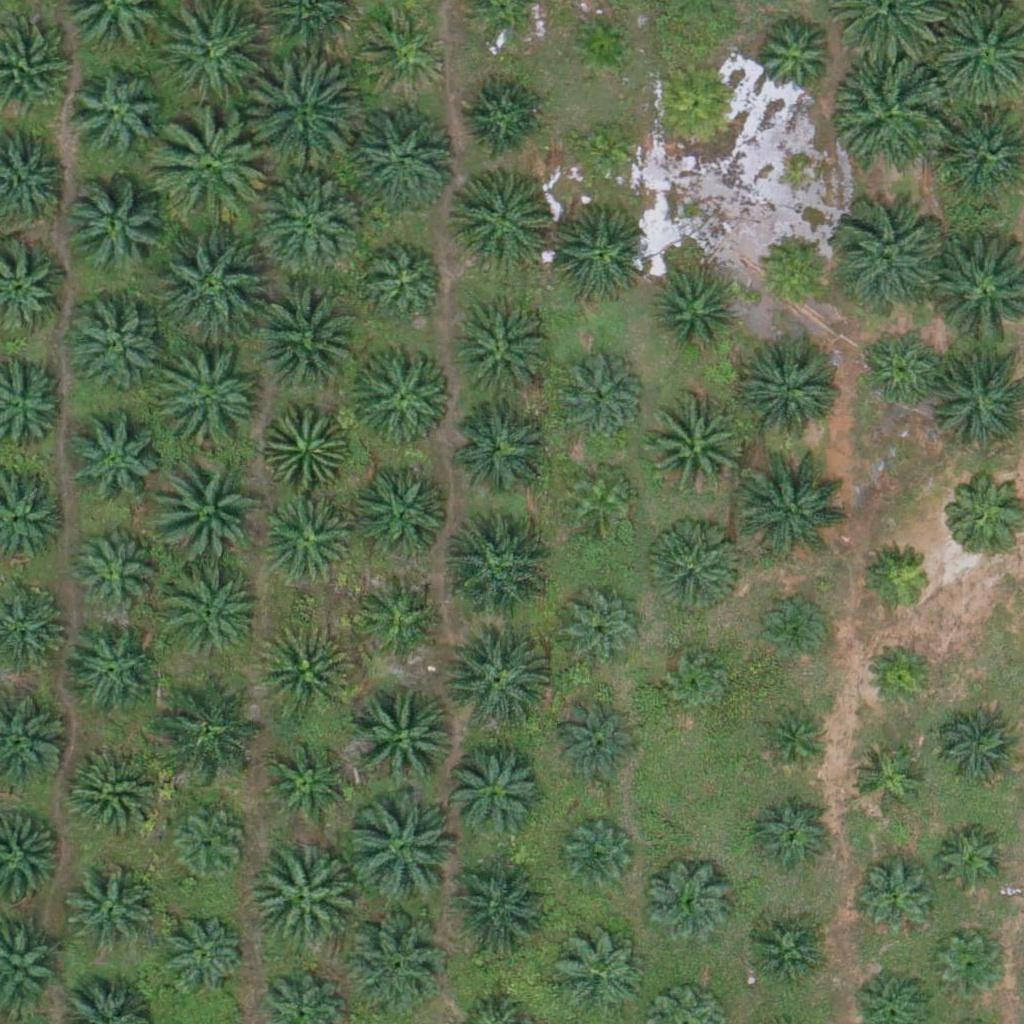Kelapa_Sawit: (436, 860, 549, 973), (345, 797, 458, 910), (156, 669, 269, 782), (156, 344, 269, 457), (155, 228, 268, 341), (837, 54, 950, 167), (834, 202, 947, 315), (256, 165, 368, 279), (351, 682, 463, 796), (245, 841, 357, 954), (155, 558, 267, 671), (150, 448, 262, 561), (153, 111, 265, 224), (243, 59, 355, 172), (248, 280, 360, 393), (346, 100, 458, 213), (437, 511, 549, 624), (438, 625, 550, 738), (739, 451, 851, 564), (445, 747, 545, 848), (342, 914, 442, 1015), (59, 743, 159, 844), (68, 65, 168, 166), (66, 175, 166, 276), (61, 411, 161, 512), (64, 623, 164, 724), (254, 622, 354, 723), (353, 466, 453, 567), (352, 342, 452, 443), (454, 306, 554, 407), (452, 397, 552, 498), (545, 204, 645, 305), (644, 397, 744, 498), (741, 336, 841, 437), (65, 293, 165, 393), (451, 168, 551, 268), (645, 516, 745, 616), (851, 851, 939, 940), (652, 58, 740, 147), (749, 795, 837, 883), (737, 911, 825, 999), (167, 800, 255, 888), (156, 907, 244, 995), (69, 868, 157, 956), (858, 328, 946, 416), (265, 492, 353, 580), (261, 743, 349, 831), (359, 567, 447, 655), (552, 700, 640, 788), (559, 582, 647, 670), (645, 858, 732, 946), (556, 931, 643, 1019), (360, 8, 447, 96), (71, 525, 158, 613), (263, 400, 350, 488), (364, 242, 451, 330), (459, 72, 546, 160), (557, 349, 644, 437), (651, 269, 738, 357), (748, 13, 835, 101), (755, 230, 830, 306), (560, 821, 635, 897), (758, 592, 833, 668), (933, 931, 1008, 1007), (756, 704, 831, 780), (563, 7, 638, 83), (567, 115, 642, 191), (863, 542, 938, 617), (564, 463, 639, 538), (848, 742, 923, 817), (662, 647, 737, 722), (936, 826, 1011, 901), (863, 638, 938, 713)
